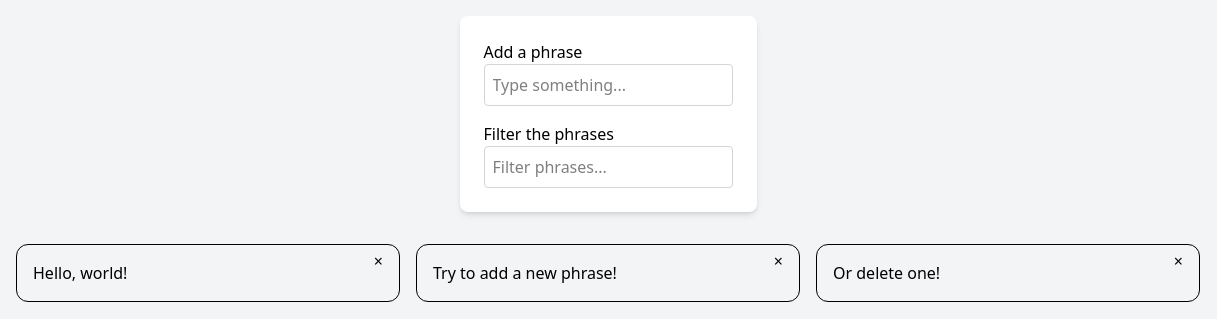
it: App Component › should delete a phrase
Expected: the number of list items is 3, [16,244,400,302]; [416,244,800,302]; [816,244,1200,302]
Click the button with test id "delete-button" in the row of "Hello, world!" at [378, 261], box [374,249,383,273]
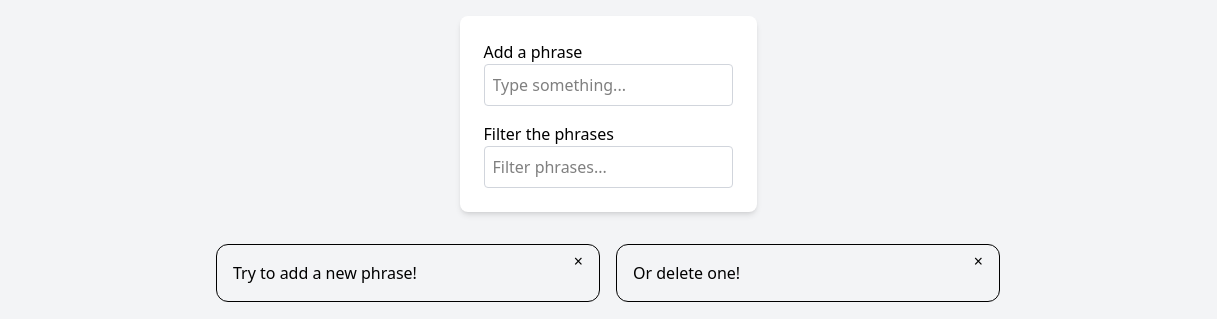
Result: the number of list items is 2 at [216,244,600,302]; [616,244,1000,302]
